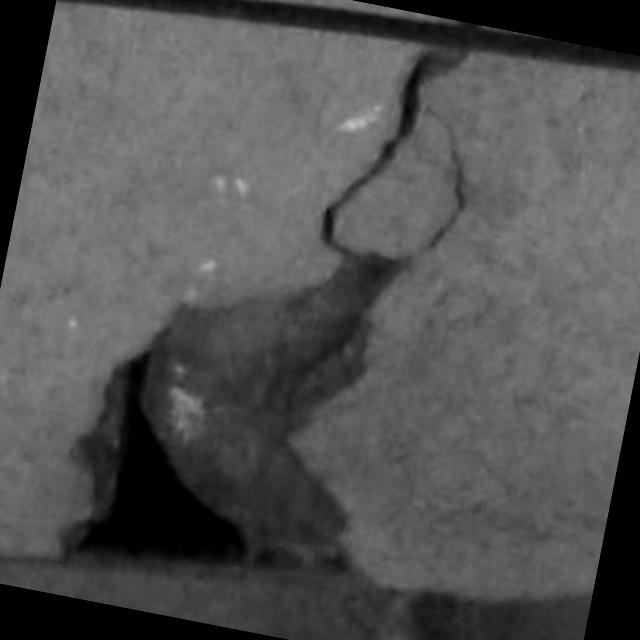crack: (81, 48, 467, 545), (321, 48, 468, 253)
